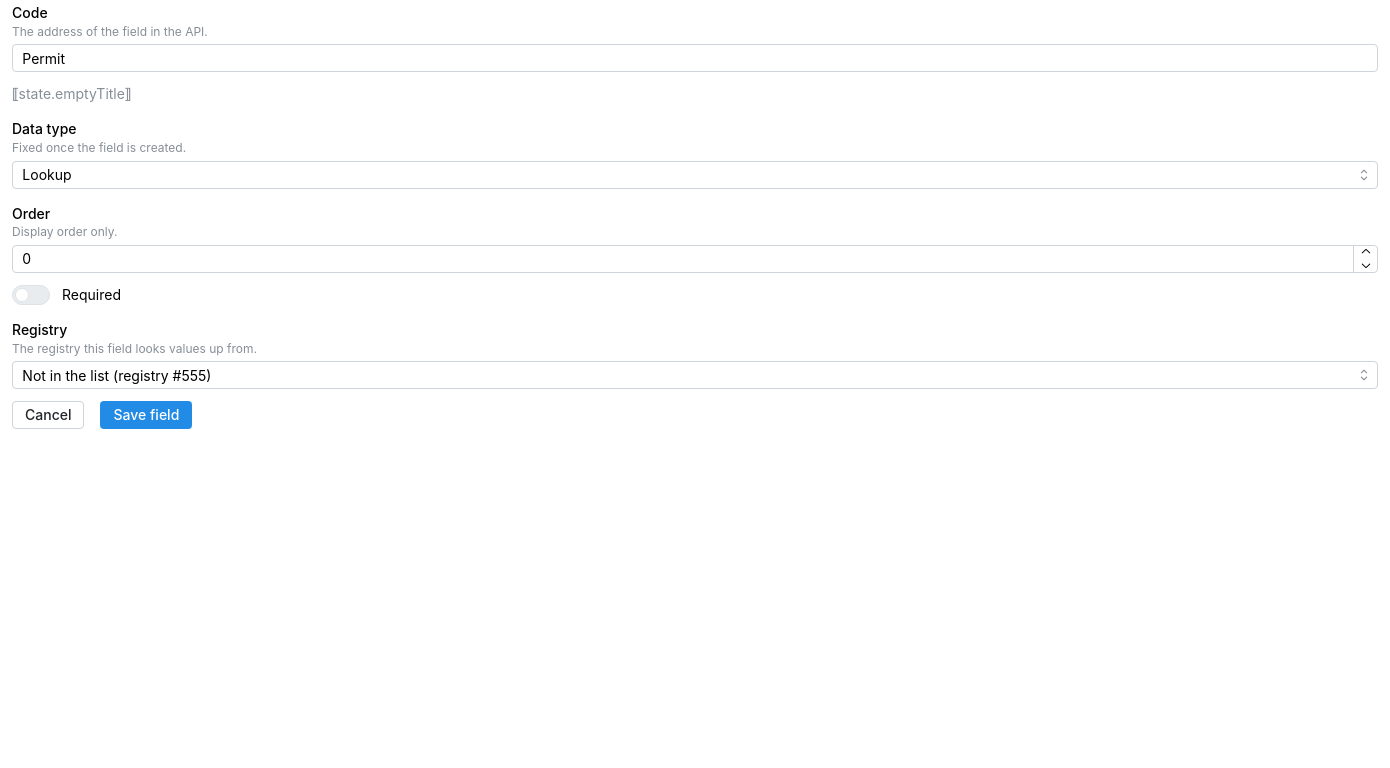
Test case: HeaderFieldEditor: вибір довідника лише для типу Lookup › поточна ціль, якої немає в переліку, лишається видимою окремою опцією «unlisted»
Click the field labelled "Registry": (695, 375) [12,361,1378,389]
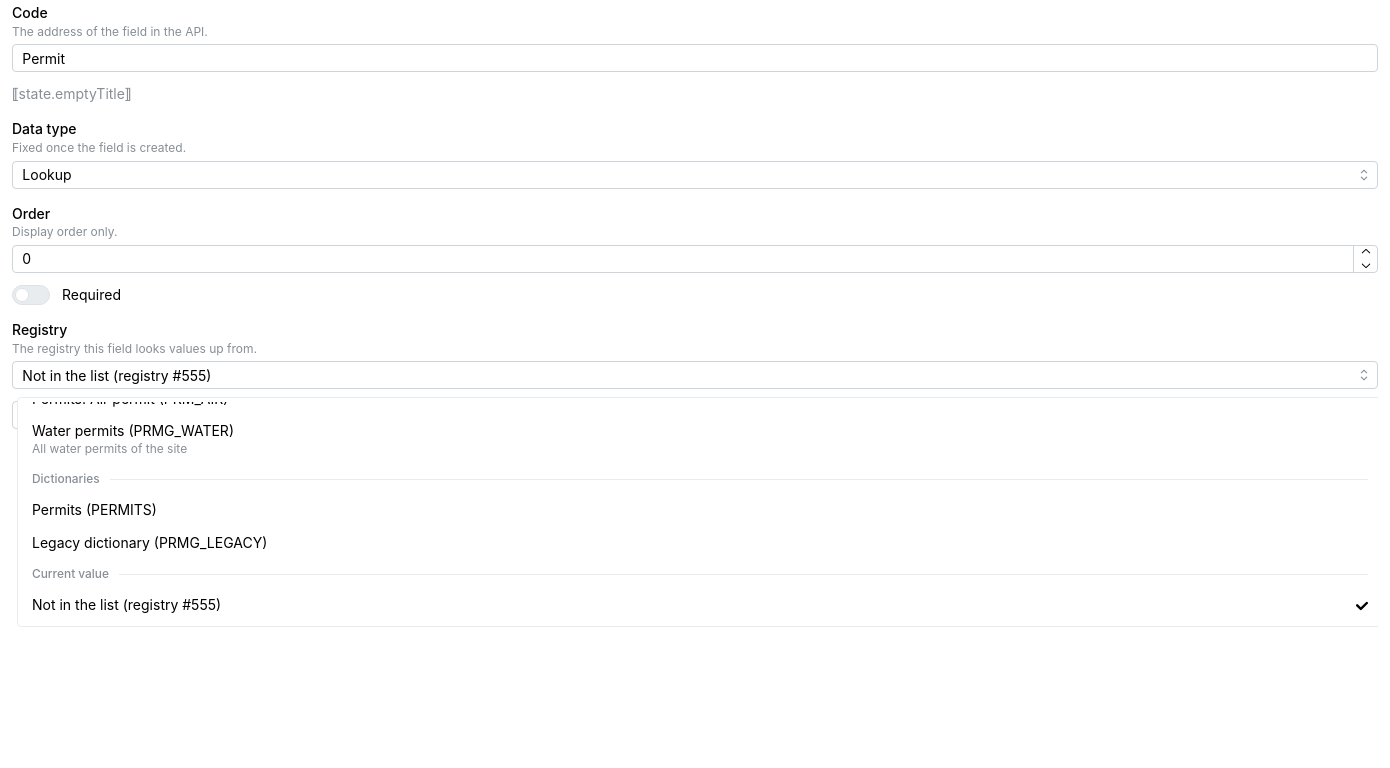
Now the text "Current value" is shown, box [32,566,109,581]
